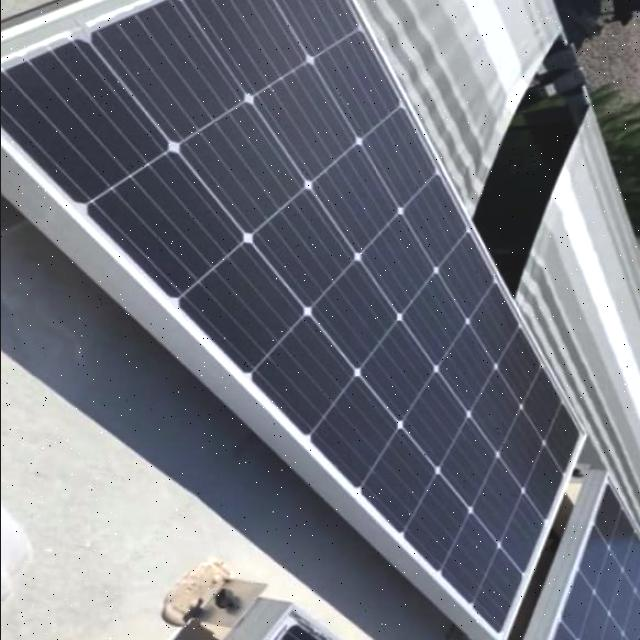Normal Solar Panel: (0, 0, 602, 640), (524, 468, 640, 640), (207, 600, 423, 640)
